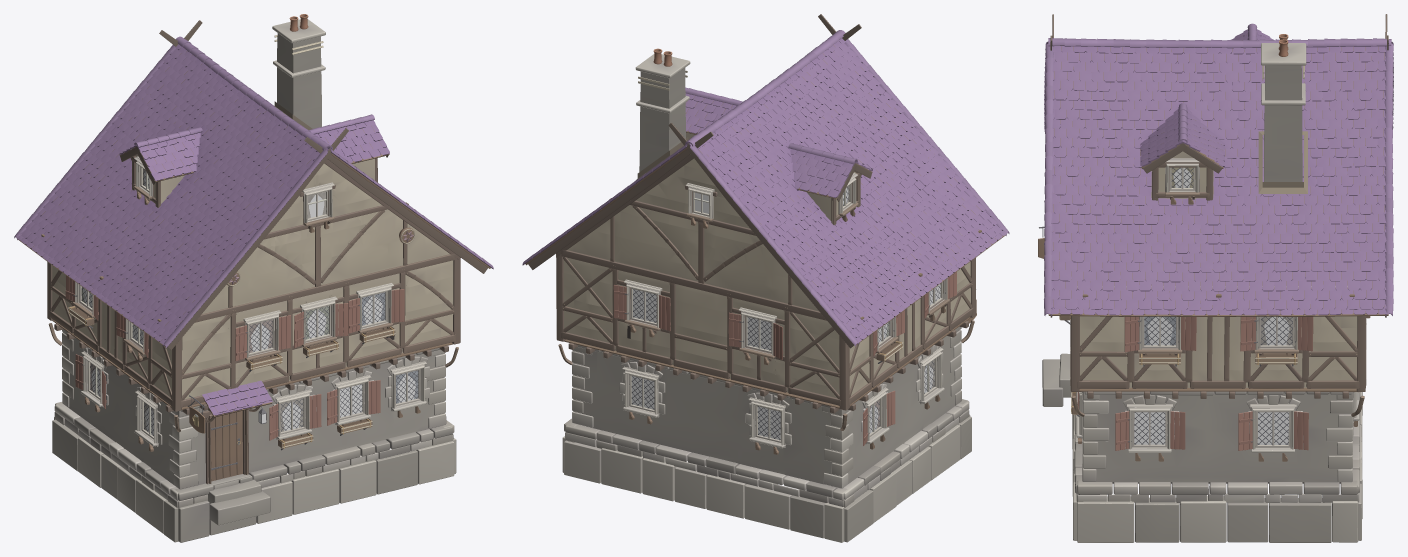
Rendered from bd_house_inn.glb.
The picture shows the model from 3 angles, left to right: view 1: azimuth 30°, elevation 25°; view 2: azimuth 150°, elevation 25°; view 3: azimuth 270°, elevation 25°; orthographic projection. The views are drawn at different scales.
Parts seen in each view (by area): view 1: BD_house_inn__body; view 2: BD_house_inn__body; view 3: BD_house_inn__body.
Boxes of the visible parts, <box> form: BD_house_inn__body: <box>14,14,493,542</box>; BD_house_inn__body: <box>522,14,1009,542</box>; BD_house_inn__body: <box>1038,14,1393,542</box>.
Bounding box in the file's own units: 10.56 × 12.51 × 8.64.
